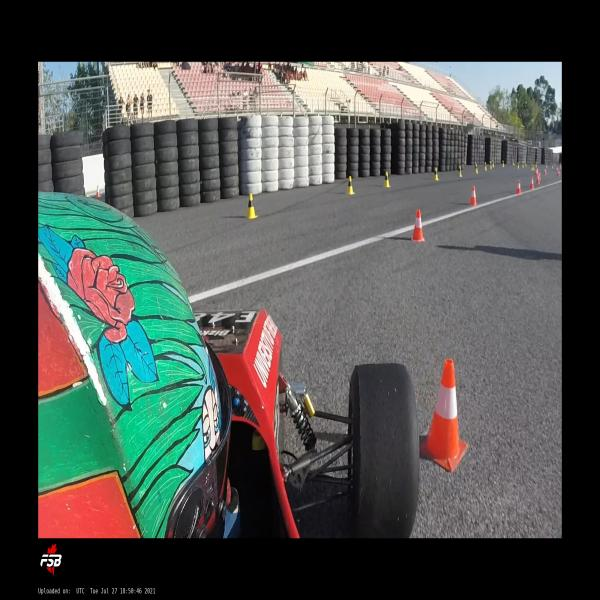orange_cone: (420, 358, 468, 472), (411, 209, 425, 242), (470, 186, 478, 206), (95, 185, 102, 198), (516, 180, 521, 194), (530, 177, 534, 189), (536, 174, 539, 184), (557, 170, 560, 176), (544, 168, 547, 174), (556, 168, 558, 173)
yellow_cone: (245, 194, 258, 218), (346, 176, 355, 194), (383, 171, 391, 187), (432, 167, 440, 181), (457, 165, 463, 177), (491, 161, 495, 168), (501, 160, 505, 167), (484, 162, 487, 171), (475, 164, 478, 173), (490, 161, 493, 169), (512, 160, 515, 166), (517, 163, 520, 169), (522, 162, 524, 168), (525, 161, 527, 166)
